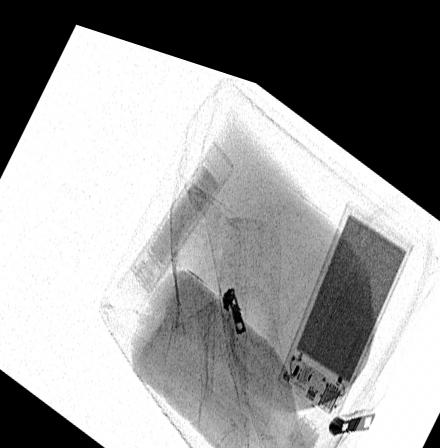Powerbank: (275, 177, 415, 398)
